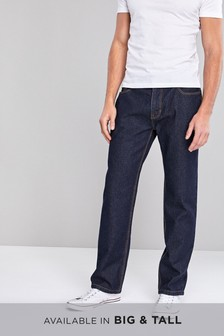jeans: (98, 88, 189, 295)
